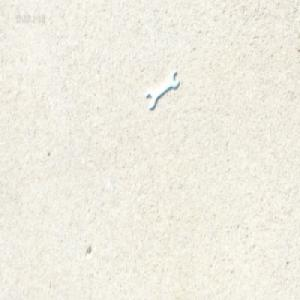Wrench: (147, 71, 180, 110)
